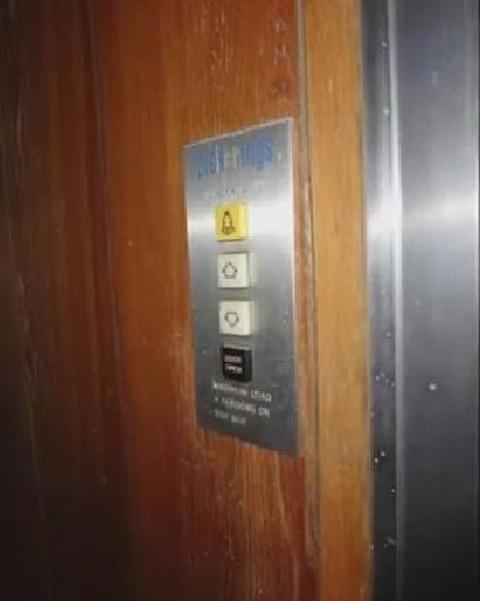alarm: (214, 200, 248, 241)
blur: (218, 342, 253, 382)
down: (215, 294, 257, 336)
up: (214, 250, 250, 286)
